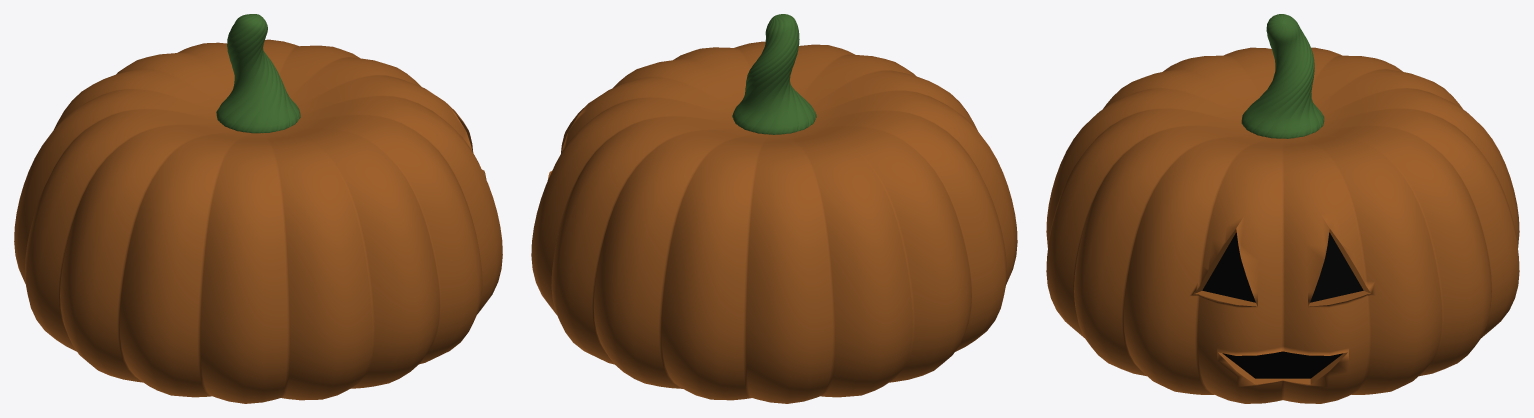
The model's file is Calabaza3.fbx.
The picture shows the model from 3 angles, left to right: view 1: azimuth 30°, elevation 25°; view 2: azimuth 150°, elevation 25°; view 3: azimuth 270°, elevation 25°; orthographic projection.
Parts seen in each view (by area): view 1: Sphere; view 2: Sphere; view 3: Sphere.
Part boxes in pixels (bbox=[...]): Sphere: bbox=[14, 14, 502, 403]; Sphere: bbox=[531, 14, 1017, 403]; Sphere: bbox=[1046, 14, 1519, 403].
Size of the model in its own units: 3.22 by 2.39 by 3.22.
